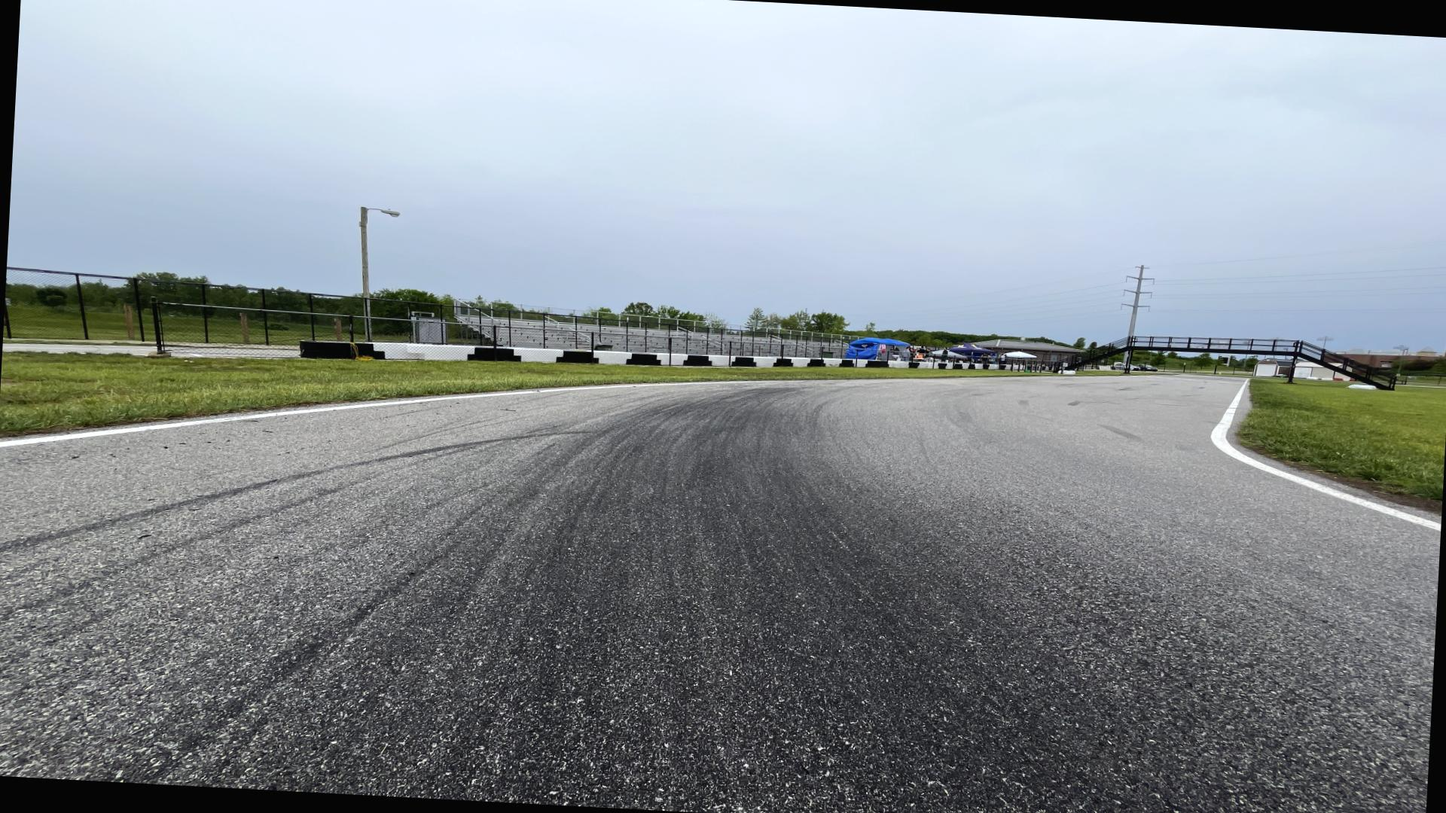white-line: (1212, 425, 1323, 491), (1314, 483, 1441, 535), (1216, 404, 1242, 458), (0, 433, 87, 447), (59, 428, 146, 440), (212, 412, 297, 422), (139, 419, 217, 429), (285, 405, 358, 414), (1228, 385, 1246, 415), (459, 391, 534, 397), (686, 379, 735, 386), (407, 397, 462, 403), (355, 401, 409, 407), (888, 375, 932, 382), (965, 374, 1004, 380), (539, 388, 576, 392), (511, 390, 548, 394), (645, 383, 688, 386), (810, 379, 848, 382), (575, 386, 610, 389), (613, 385, 645, 388), (1002, 376, 1048, 378), (848, 379, 889, 381), (732, 381, 773, 383), (772, 380, 810, 382), (931, 377, 966, 379), (1047, 376, 1079, 378), (1133, 375, 1158, 376), (1244, 379, 1248, 384), (1080, 376, 1130, 376)
